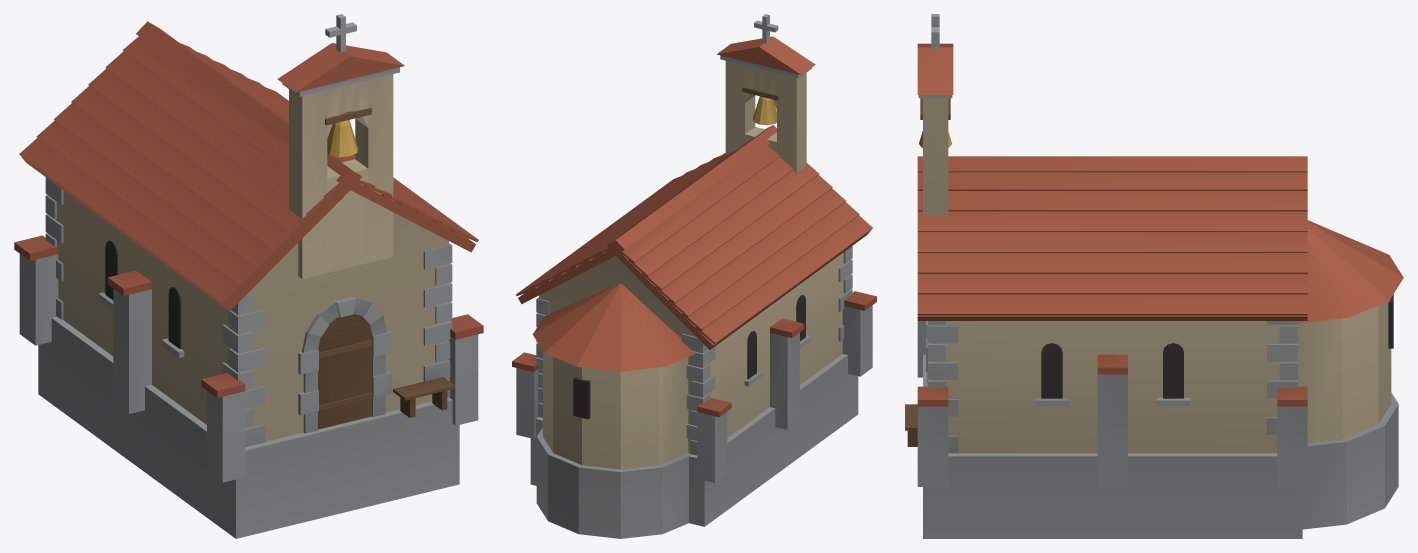
File: chapel.glb
The picture shows the model from 3 angles, left to right: view 1: azimuth 30°, elevation 25°; view 2: azimuth 150°, elevation 25°; view 3: azimuth 270°, elevation 25°; orthographic projection. The views are drawn at different scales.
Visible parts, largest first — view 1: chapel; view 2: chapel; view 3: chapel.
Boxes of the visible parts, left/top/right/bottom form: chapel: left=14, top=14, right=483, bottom=538; chapel: left=512, top=14, right=876, bottom=538; chapel: left=905, top=14, right=1403, bottom=538.
Bounding box in the file's own units: 5.84 × 10.27 × 9.85.
